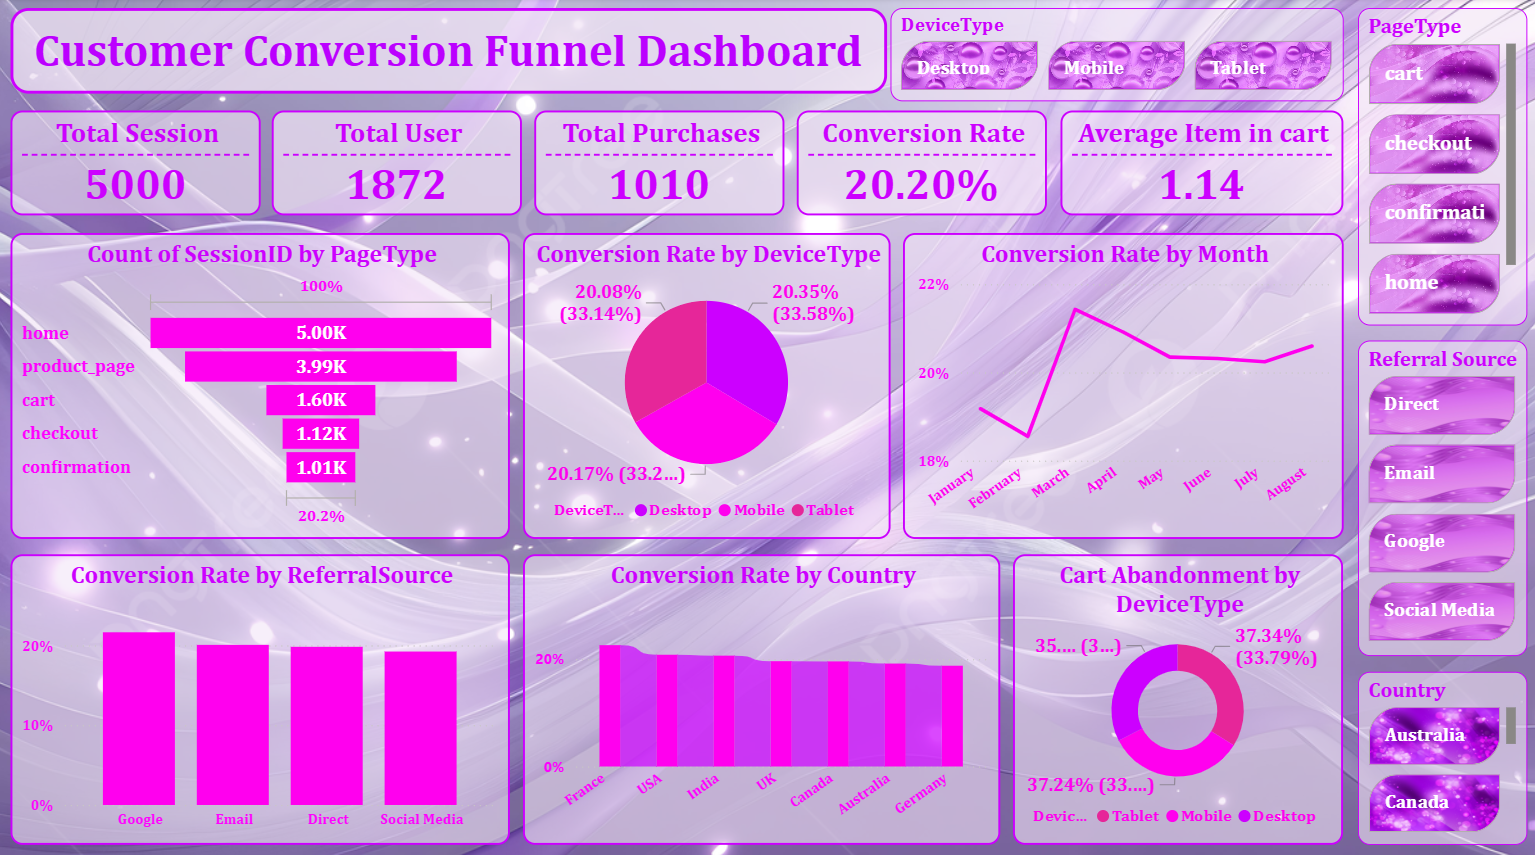

The dashboard page shown, as its layout file describes it:
{"tool":"powerbi","page":{"name":"Page 1","canvas":[1280,720],"ordinal":0},"visuals":[{"type":"textbox","box":[10.5,8.1,729.1,70.9],"z":0},{"type":"card","title":"Total Session","fields":{"Values":["customer_journey.Total sessions"]},"box":[10.5,93,208.1,87.2],"z":1000},{"type":"card","title":"Total User","fields":{"Values":["customer_journey.Total User"]},"box":[227.9,93,208.1,87.2],"z":2000},{"type":"card","title":"Total Purchases","fields":{"Values":["customer_journey.Total purchases"]},"box":[445.4,93,208.1,87.2],"z":3000},{"type":"card","title":"Conversion Rate","fields":{"Values":["customer_journey.Conversion Rate"]},"box":[664,93,208.1,87.2],"z":4000},{"type":"card","title":"Average Item in cart","fields":{"Values":["Avg(customer_journey.ItemsInCart)"]},"box":[883.7,93,234.9,87.2],"z":5000},{"type":"funnel","fields":{"Category":["customer_journey.PageType"],"Y":["Count(customer_journey.SessionID)"]},"box":[10.5,195.3,415.1,254.7],"z":5001},{"type":"clusteredColumnChart","fields":{"Category":["customer_journey.ReferralSource"],"Y":["customer_journey.Conversion Rate"]},"box":[10.5,462.8,415.1,241.9],"z":5002},{"type":"pieChart","fields":{"Category":["customer_journey.DeviceType"],"Y":["customer_journey.Conversion Rate"]},"box":[436,195.3,305.8,254.7],"z":5003},{"type":"ribbonChart","fields":{"Category":["customer_journey.Country"],"Y":["customer_journey.Conversion Rate"]},"box":[436,462.8,396.5,241.9],"z":5004},{"type":"donutChart","fields":{"Category":["customer_journey.DeviceType"],"Y":["customer_journey.Cart Abandonment"]},"box":[844.2,462.8,274.4,241.9],"z":5005},{"type":"lineChart","fields":{"Category":["customer_journey.Timestamp.Variation.Date Hierarchy.Month"],"Y":["customer_journey.Conversion Rate"]},"box":[752.3,195.3,366.3,254.7],"z":5006},{"type":"advancedSlicerVisual","fields":{"Values":["customer_journey.DeviceType"]},"box":[741.9,8.1,376.7,77.9],"z":5007},{"type":"advancedSlicerVisual","fields":{"Values":["customer_journey.PageType"]},"box":[1130.2,8.1,140.7,264],"z":5008},{"type":"advancedSlicerVisual","title":"Referral Source","fields":{"Values":["customer_journey.ReferralSource"]},"box":[1130.2,284.9,140.7,262.8],"z":5009},{"type":"advancedSlicerVisual","fields":{"Values":["customer_journey.Country"]},"box":[1130.2,560.5,140.7,144.2],"z":5010}]}

Visuals, with their boxes in screenshot pixels (x1, y1, x2, y2), scaled from the page's 1280x720 canvas onto the 1535x855 screenshot:
textbox: locate(13, 10, 887, 94)
"Total Session" card: locate(13, 110, 262, 214)
"Total User" card: locate(273, 110, 523, 214)
"Total Purchases" card: locate(534, 110, 784, 214)
"Conversion Rate" card: locate(796, 110, 1046, 214)
"Average Item in cart" card: locate(1060, 110, 1341, 214)
funnel - customer_journey.PageType x Count(customer_journey.SessionID): locate(13, 232, 510, 534)
clusteredColumnChart - customer_journey.ReferralSource x customer_journey.Conversion Rate: locate(13, 550, 510, 837)
pieChart - customer_journey.DeviceType x customer_journey.Conversion Rate: locate(523, 232, 890, 534)
ribbonChart - customer_journey.Country x customer_journey.Conversion Rate: locate(523, 550, 998, 837)
donutChart - customer_journey.DeviceType x customer_journey.Cart Abandonment: locate(1012, 550, 1341, 837)
lineChart - customer_journey.Timestamp.Variation.Date Hierarchy.Month x customer_journey.Conversion Rate: locate(902, 232, 1341, 534)
advancedSlicerVisual - customer_journey.DeviceType: locate(890, 10, 1341, 102)
advancedSlicerVisual - customer_journey.PageType: locate(1355, 10, 1524, 323)
"Referral Source" advancedSlicerVisual: locate(1355, 338, 1524, 650)
advancedSlicerVisual - customer_journey.Country: locate(1355, 666, 1524, 837)
